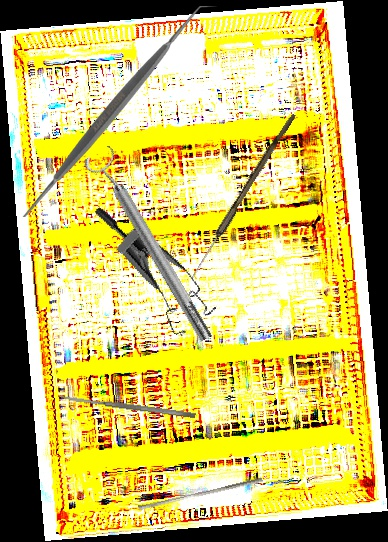Fixation Ring: (81, 143, 221, 349)
Pusher: (137, 472, 264, 515)
Spatula Surgical: (8, 6, 217, 217), (64, 393, 196, 420)
Speculum: (61, 205, 232, 346)
Surgical Spoon: (188, 111, 296, 282)
